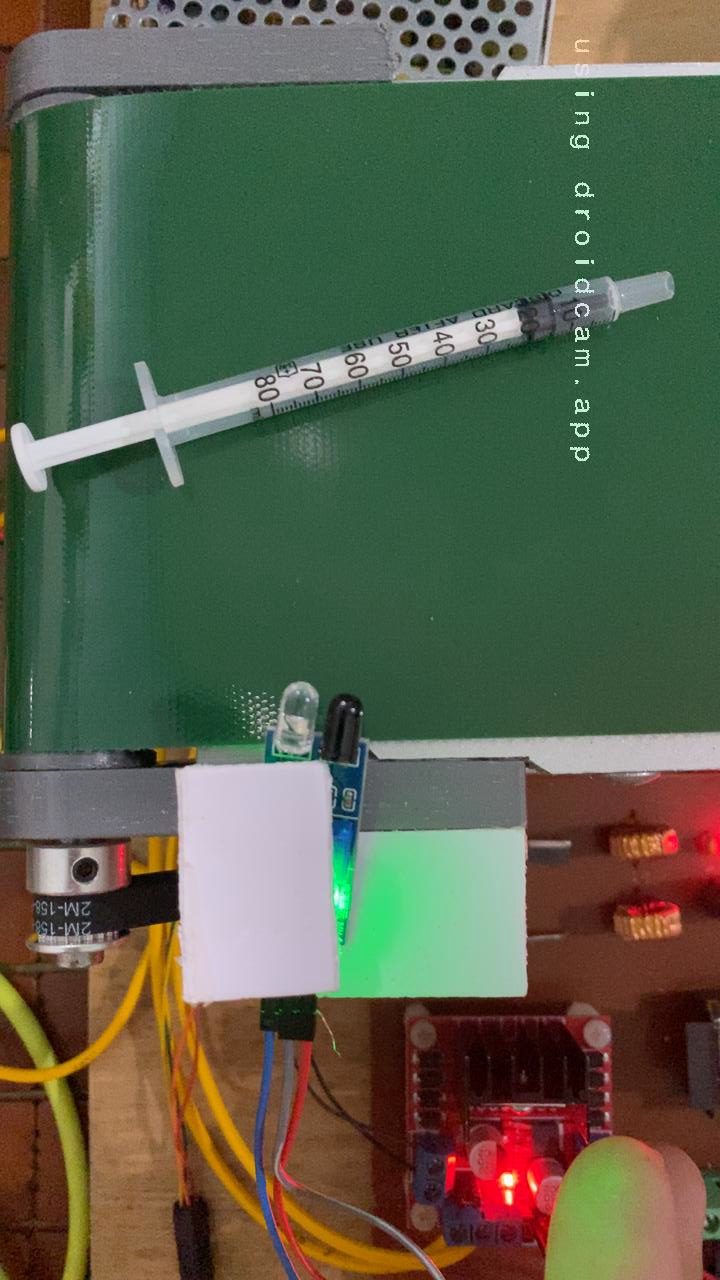syringe: (0, 80, 681, 739)
